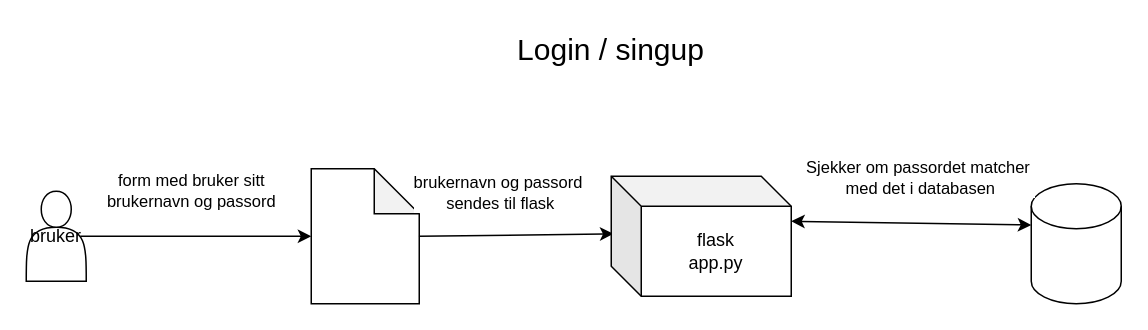
Image size: 1148x330. Some labels were removed from this diagram. Each missing label, with the centre of its shape:
"MariaDB" belongs at (1075,243).
"signin / login" belongs at (364,235).
